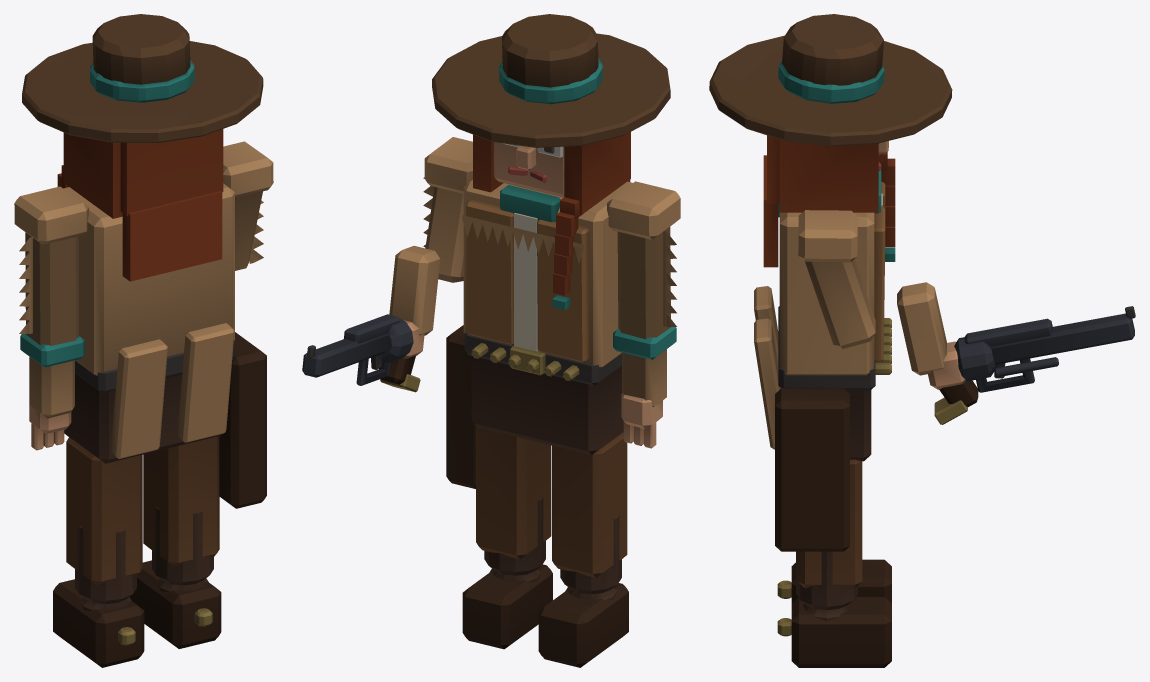
The model's file is cowboy_kate.glb.
The picture shows the model from 3 angles, left to right: view 1: azimuth 30°, elevation 25°; view 2: azimuth 150°, elevation 25°; view 3: azimuth 270°, elevation 25°; orthographic projection.
Parts seen in each view (by area): view 1: O_Hat, O_Torso, O_Pelvis, O_Leg_L, O_Hair, O_Leg_R, O_Sleeve_L, O_Gear, O_CoatTail_L, O_CoatTail_R, O_Shin_L, O_Shin_R (+2 smaller); view 2: O_Torso, O_Hat, O_Pelvis, O_Leg_L, O_Leg_R, O_Sleeve_L, O_Shin_L, O_Shin_R, O_Frame, O_Hair, O_Fore_R, O_Head (+3 smaller); view 3: O_Hat, O_Pelvis, O_Torso, O_Frame, O_Hair, O_Shin_R, O_Leg_R, O_Fore_R, O_Sleeve_R, O_Gear, O_CoatTail_R, O_Shin_L (+1 smaller).
Boxes of the visible parts, <box> form: O_Hat: <box>22,14,263,142</box>; O_Torso: <box>14,141,273,375</box>; O_Pelvis: <box>64,332,266,508</box>; O_Leg_L: <box>66,437,142,604</box>; O_Hair: <box>63,129,223,218</box>; O_Leg_R: <box>143,436,219,585</box>; O_Sleeve_L: <box>25,232,78,450</box>; O_Gear: <box>57,165,222,281</box>; O_CoatTail_L: <box>111,339,167,458</box>; O_CoatTail_R: <box>178,323,234,442</box>; O_Shin_L: <box>53,579,144,667</box>; O_Shin_R: <box>130,560,221,648</box>; O_Torso: <box>424,137,680,368</box>; O_Hat: <box>432,14,670,147</box>; O_Pelvis: <box>446,325,623,488</box>; O_Leg_L: <box>552,432,627,594</box>; O_Leg_R: <box>476,426,551,575</box>; O_Sleeve_L: <box>617,227,670,448</box>; O_Shin_L: <box>538,583,628,667</box>; O_Shin_R: <box>462,564,552,649</box>; O_Frame: <box>302,314,420,392</box>; O_Hair: <box>473,132,630,214</box>; O_Fore_R: <box>389,246,440,358</box>; O_Head: <box>493,142,564,197</box>; O_Hat: <box>709,14,952,146</box>; O_Pelvis: <box>775,306,891,551</box>; O_Torso: <box>778,170,885,375</box>; O_Frame: <box>934,306,1135,424</box>; O_Hair: <box>767,135,878,212</box>; O_Shin_R: <box>777,597,891,667</box>; O_Leg_R: <box>796,459,862,610</box>; O_Fore_R: <box>897,282,965,389</box>; O_Sleeve_R: <box>805,259,875,349</box>; O_Gear: <box>763,152,895,267</box>; O_CoatTail_R: <box>754,318,780,449</box>; O_Shin_L: <box>777,559,891,603</box>.
Size of the model in its own units: 0.98 by 2.28 by 1.44.
